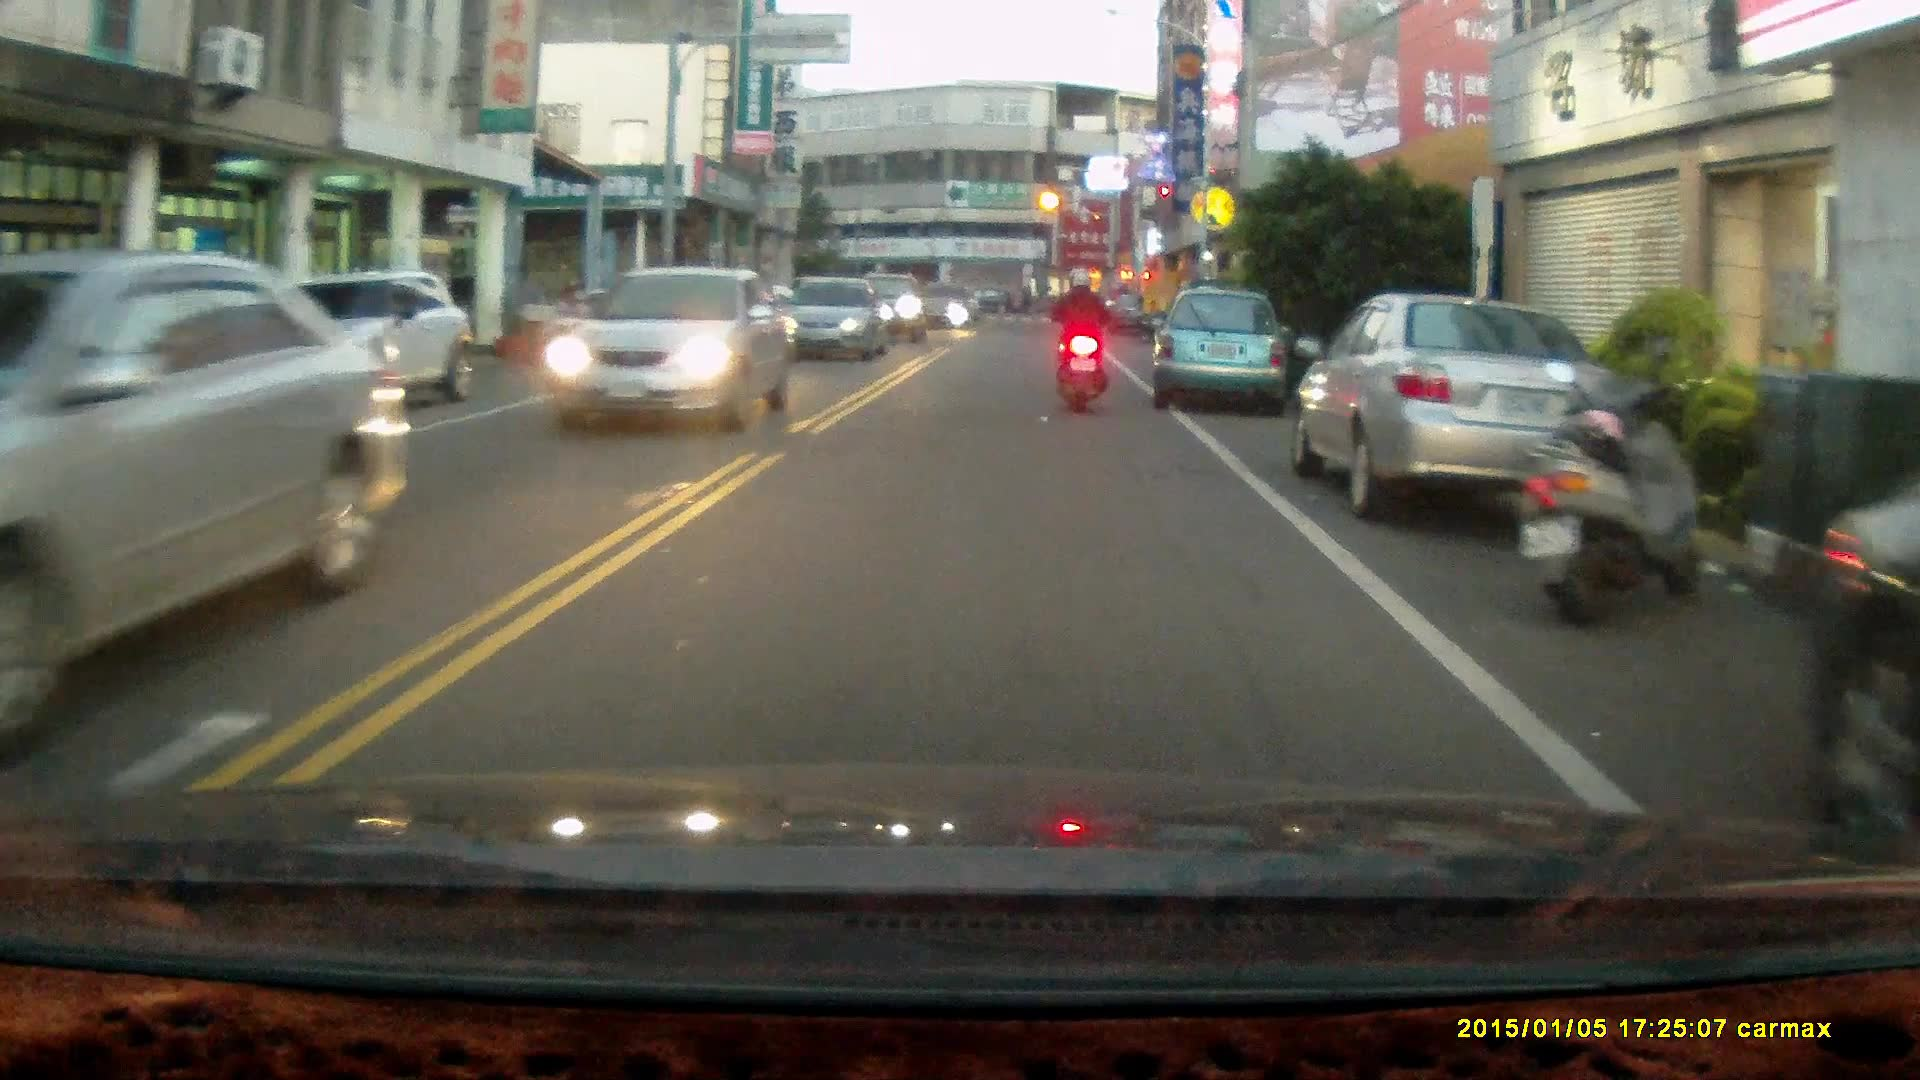rider: (1049, 265, 1114, 413)
vehicle: (4, 249, 393, 745), (1284, 293, 1628, 520), (545, 269, 797, 432), (1806, 475, 1920, 823), (227, 268, 473, 411), (1150, 285, 1294, 420), (777, 281, 892, 365)
